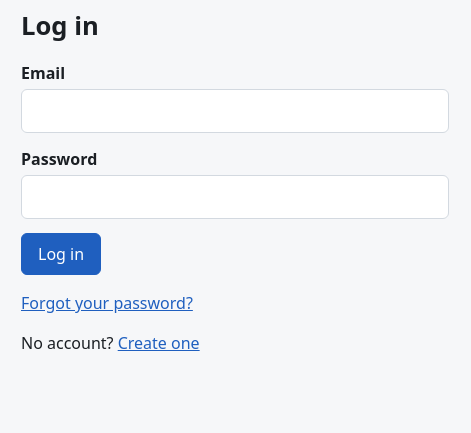
Test: login › shows an accessible error on bad credentials and stays logged out
Type "riya@example.com" into the field labelled "Email" at x=235, y=111, box 21,89 -> 449,133
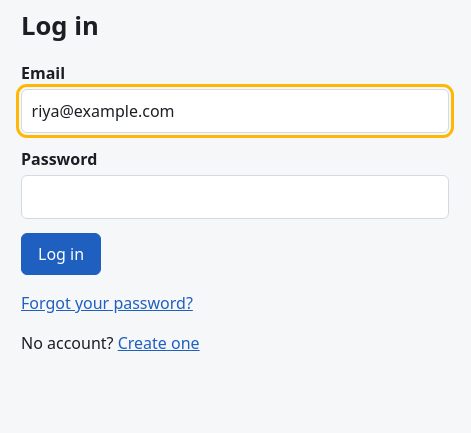
Type "wrong-password-1" into the password field labelled "Password" at x=235, y=197, box 21,175 -> 449,219
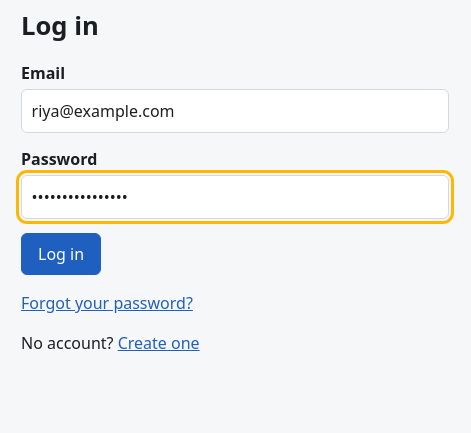
Click the button "Log in" at x=61, y=254, box 21,233 -> 101,275
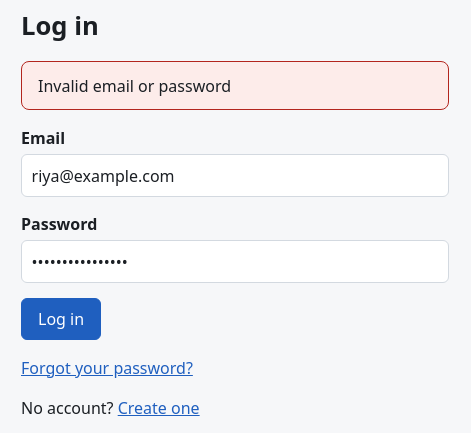
Result: the message reads "Invalid email or password" at 38,75 -> 231,97
